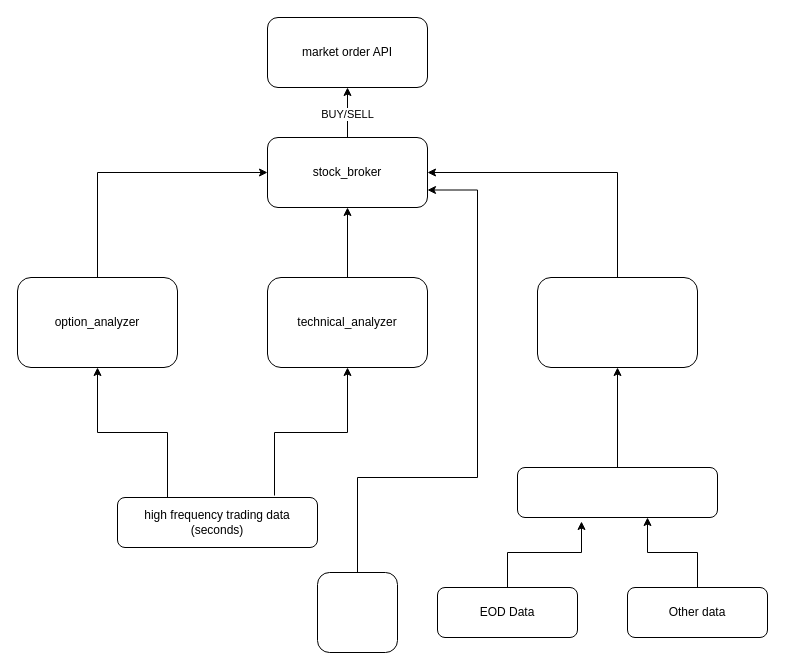
Some shapes in this 785 by 670 pixel diagram are drawn without their labels. Here are the shapes that lost their labels. From the top down, the centre of each, then its label:
At (x=617, y=322): "dividend_capture".
At (x=617, y=492): "Fundamental Data Source fusion".
At (x=357, y=612): "current cash on-hand".
